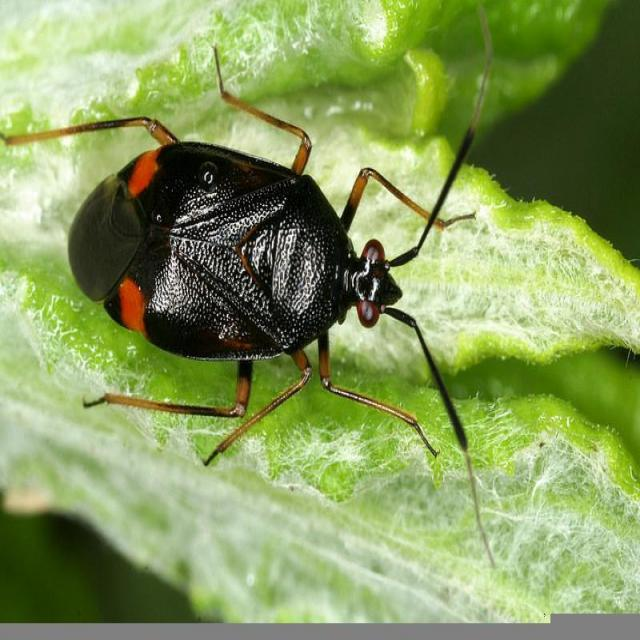Miridae-Adult-: (16, 32, 503, 505)
